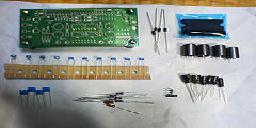Electrolytic-Capacitor: (144, 7, 169, 56), (26, 53, 77, 65), (183, 73, 193, 103), (99, 90, 149, 96), (227, 46, 241, 67), (180, 43, 196, 61), (19, 88, 31, 111), (217, 78, 227, 103), (6, 51, 20, 67), (198, 44, 211, 61), (212, 44, 225, 61), (199, 73, 208, 97), (42, 86, 51, 105), (81, 55, 90, 67)
